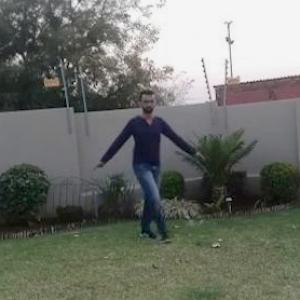land: (94, 96, 198, 234)
